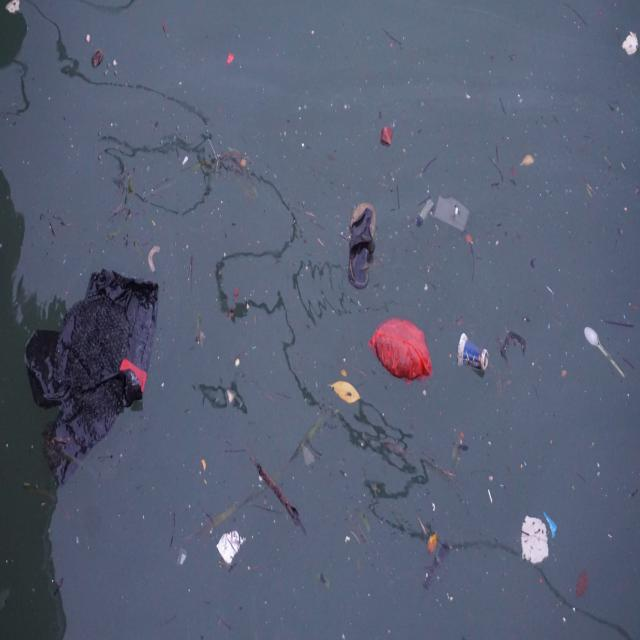Bungkus Makanan: (216, 525, 247, 571)
Bungkus Minuman: (458, 327, 491, 381)
Kantong Plastik: (23, 265, 160, 480), (365, 312, 436, 383)
